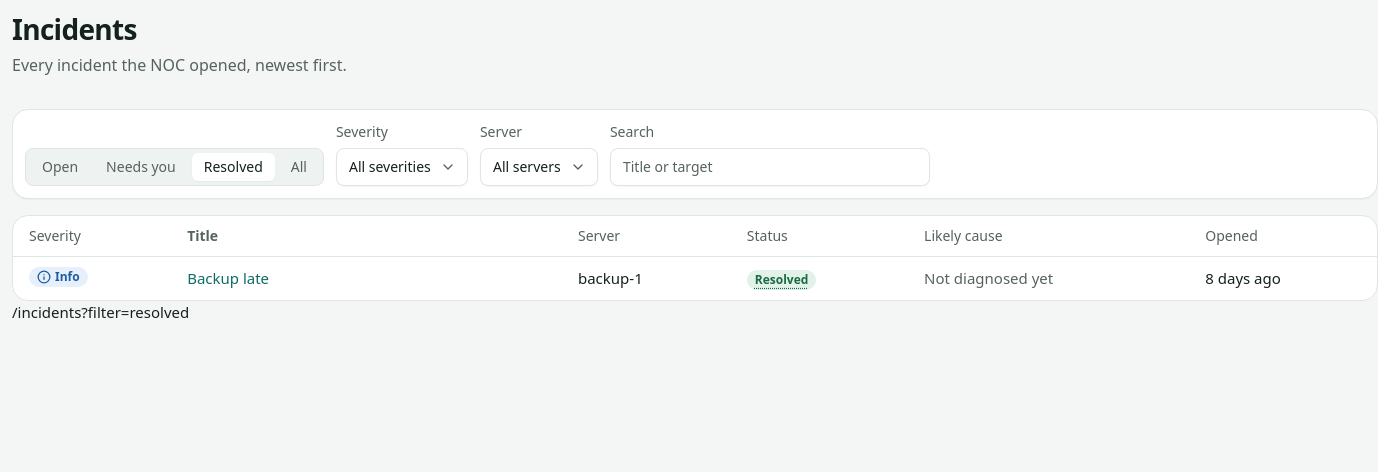
Test: IncidentsPage › shows the resolved incidents for the resolved chip and everything for all
Expected: the link "Backup late" is shown, x1=187 y1=268 x2=269 y2=288
Click the button "All". click: (299, 167)
box: x1=279 y1=153 x2=319 y2=181
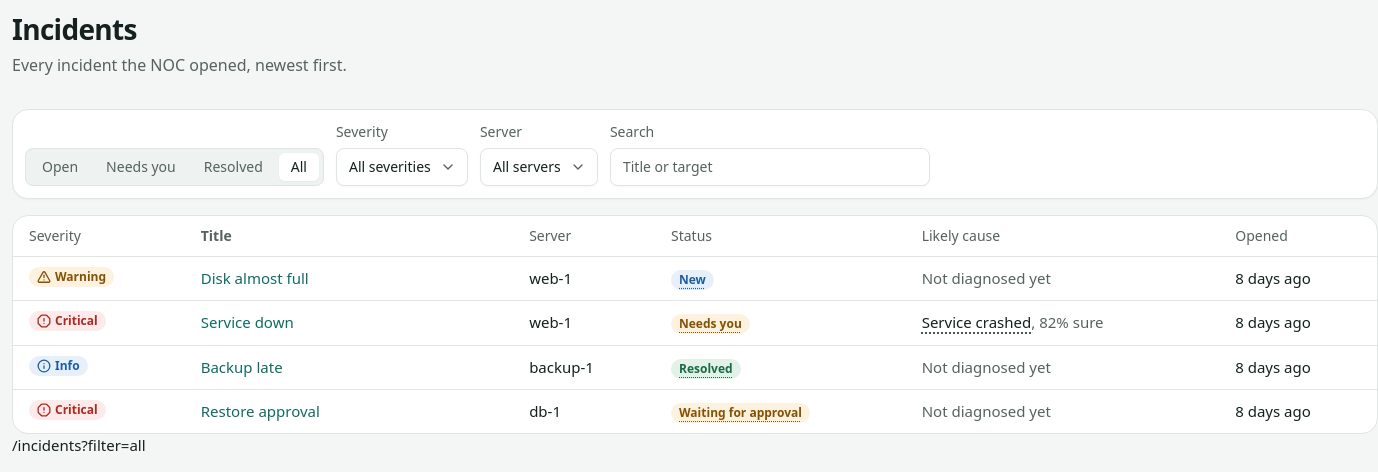
Expected: the number of links is 4, x1=201 y1=268 x2=309 y2=288; x1=201 y1=312 x2=294 y2=332; x1=201 y1=356 x2=283 y2=376; x1=201 y1=401 x2=320 y2=421
Expected: the text with test id "location" reads "/incidents?filter=all", x1=12 y1=435 x2=146 y2=455
